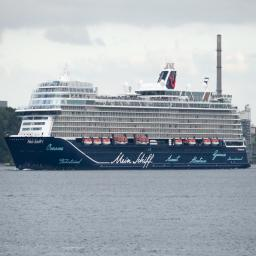cruises: (3, 65, 253, 174)
